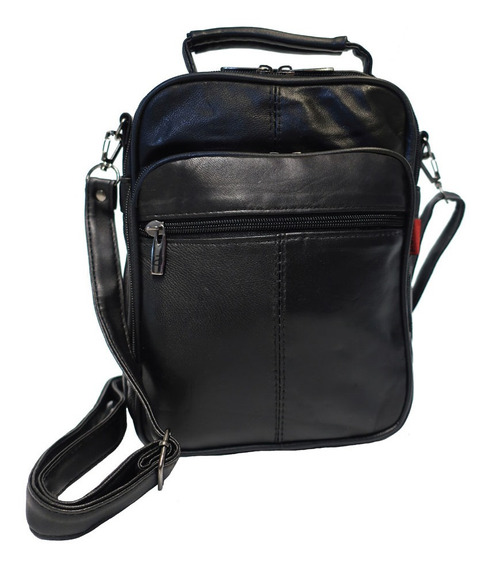cartera: (82, 20, 467, 457)
